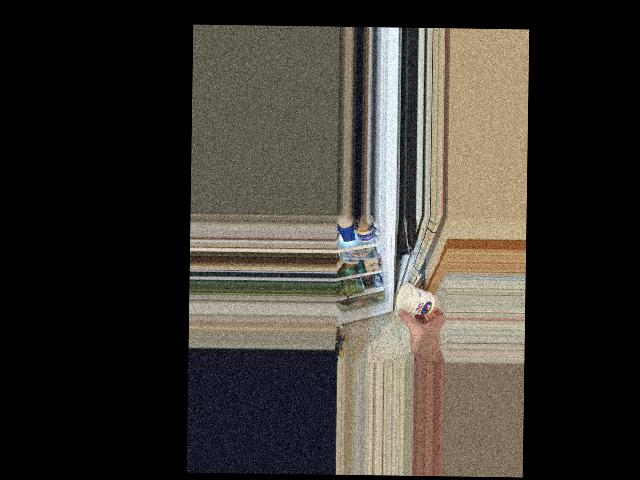cotage: (397, 285, 435, 318)
